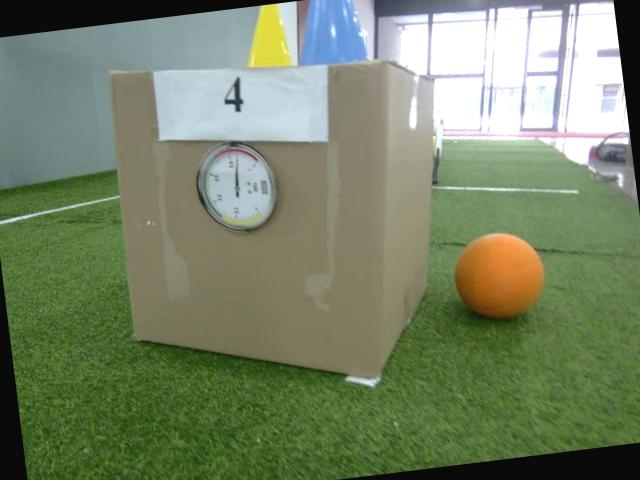4: (218, 75, 247, 115)
Dashboard: (190, 137, 284, 238)
blue_barrel: (291, 0, 371, 72)
orange_ball: (450, 228, 550, 328)
ssi: (258, 178, 268, 198)
yellow_barrel: (237, 2, 295, 74)
